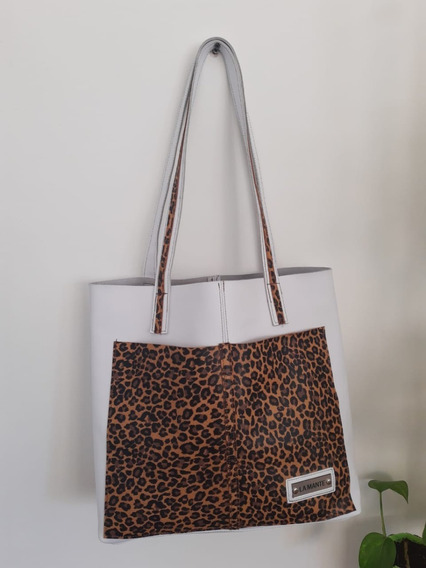cartera: (84, 35, 366, 546)
